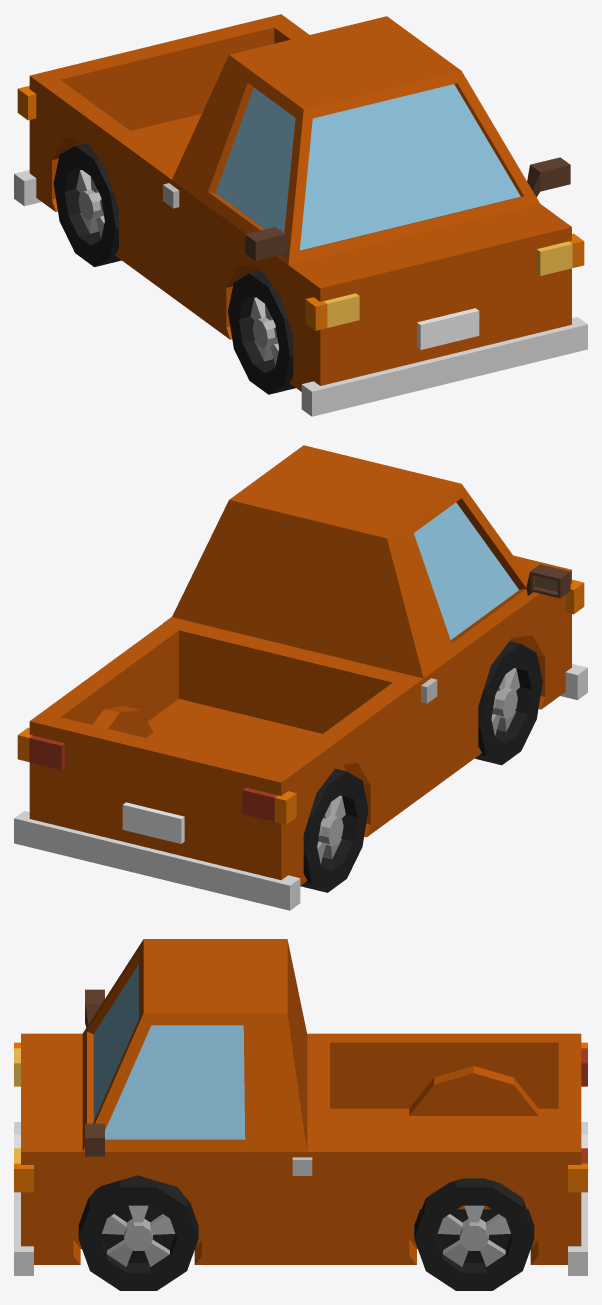
Rendered from trunk.glb.
3 views of the same model, one above another, from view 1: azimuth 30°, elevation 25°; view 2: azimuth 150°, elevation 25°; view 3: azimuth 270°, elevation 25° (orthographic). The views are drawn at different scales.
Parts seen in each view (by area): view 1: Vehicle.005_Material_0; view 2: Vehicle.005_Material_0; view 3: Vehicle.005_Material_0.
Boxes of the visible parts, x1,y1,x2,y2 form: Vehicle.005_Material_0: (14,14,587,416); Vehicle.005_Material_0: (14,445,587,910); Vehicle.005_Material_0: (14,939,587,1290).
Size of the model in its own units: 2.5 by 2.01 by 4.1.
Materials: 1 (1 with a texture image).
